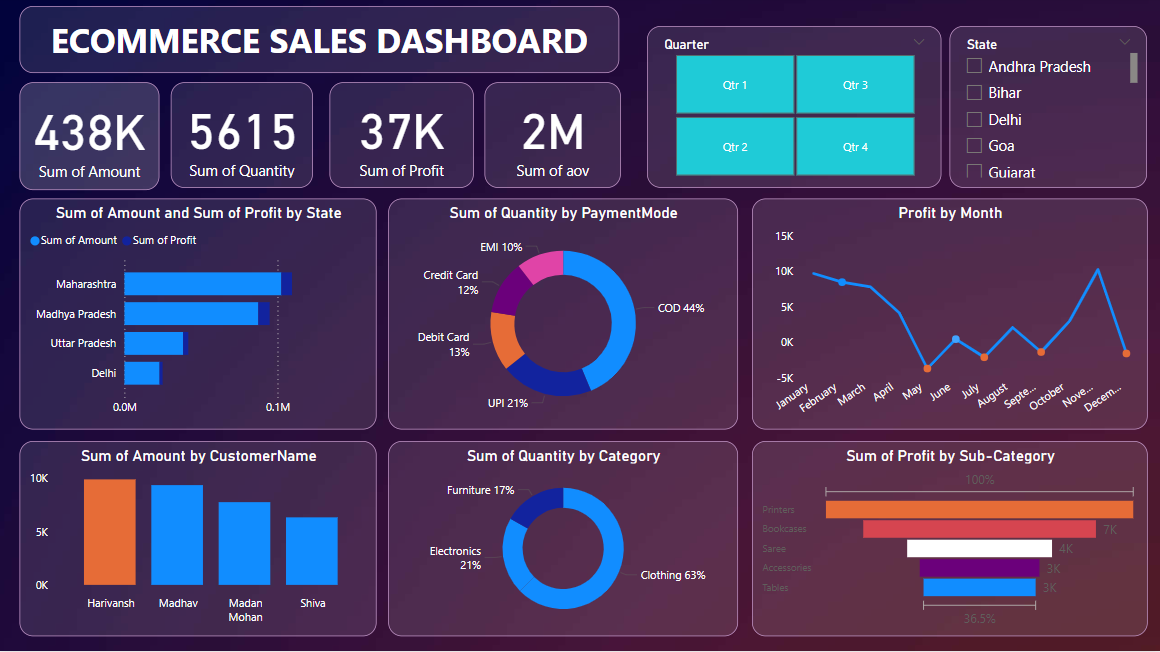

What the dashboard file says about the page in this screenshot:
{"tool":"powerbi","page":{"name":"Page 1","canvas":[1280,720],"ordinal":0},"visuals":[{"type":"lineChart","title":" Profit by Month","fields":{"Category":["Orders.Order Date.Variation.Date Hierarchy.Month"],"Y":["Details.Profit"]},"box":[828.8,222,434.3,253.4],"z":0},{"type":"lineStackedColumnComboChart","fields":{"Category":["Details.Sub-Category"],"Y":["Details.Profit"]},"box":[828.8,488.6,434.3,214.7],"z":1000},{"type":"donutChart","fields":{"Category":["Details.Category"],"Y":["Details.Quantity"]},"box":[429.5,488.6,383.6,214.7],"z":2000},{"type":"donutChart","fields":{"Y":["Details.Quantity"],"Category":["Details.PaymentMode"]},"box":[429.5,222,383.6,253.4],"z":3000},{"type":"card","fields":{"Values":["Details.Amount"]},"box":[25.3,94.1,153.2,118.2],"z":4000},{"type":"card","fields":{"Values":["Details.Quantity"]},"box":[190.6,94.1,155.6,115.8],"z":5000},{"type":"card","fields":{"Values":["Details.Profit"]},"box":[364.3,94.1,158,115.8],"z":6000},{"type":"card","fields":{"Values":["Details.aov"]},"box":[535.7,94.1,149.6,115.8],"z":7000},{"type":"barChart","fields":{"Category":["Orders.State","Details.Sub-Category"],"Y":["Details.Amount","Details.Profit"]},"box":[25.3,222,392.1,253.4],"z":8000},{"type":"columnChart","fields":{"Category":["Orders.CustomerName"],"Y":["Details.Amount"]},"box":[25.3,488.6,392.1,214.7],"z":9000},{"type":"textbox","box":[25.3,10.9,658.7,73.6],"z":10000},{"type":"slicer","fields":{"Values":["Orders.State"]},"box":[1046,32.6,217.2,177.3],"z":11000},{"type":"slicer","fields":{"Values":["Orders.Order Date.Variation.Date Hierarchy.Quarter"]},"box":[714.2,32.6,323.3,177.3],"z":12000}]}

Visuals, with their boxes in screenshot pixels (x1, y1, x2, y2), scaled from the page's 1280x720 canvas onto the 1160x652 screenshot:
" Profit by Month" lineChart: left=751, top=201, right=1145, bottom=431
lineStackedColumnComboChart - Details.Sub-Category x Details.Profit: left=751, top=442, right=1145, bottom=637
donutChart - Details.Category x Details.Quantity: left=389, top=442, right=737, bottom=637
donutChart - Details.Quantity x Details.PaymentMode: left=389, top=201, right=737, bottom=431
card - Details.Amount: left=23, top=85, right=162, bottom=192
card - Details.Quantity: left=173, top=85, right=314, bottom=190
card - Details.Profit: left=330, top=85, right=473, bottom=190
card - Details.aov: left=485, top=85, right=621, bottom=190
barChart - Orders.State x Details.Sub-Category: left=23, top=201, right=378, bottom=431
columnChart - Orders.CustomerName x Details.Amount: left=23, top=442, right=378, bottom=637
textbox: left=23, top=10, right=620, bottom=77
slicer - Orders.State: left=948, top=30, right=1145, bottom=190
slicer - Orders.Order Date.Variation.Date Hierarchy.Quarter: left=647, top=30, right=940, bottom=190
